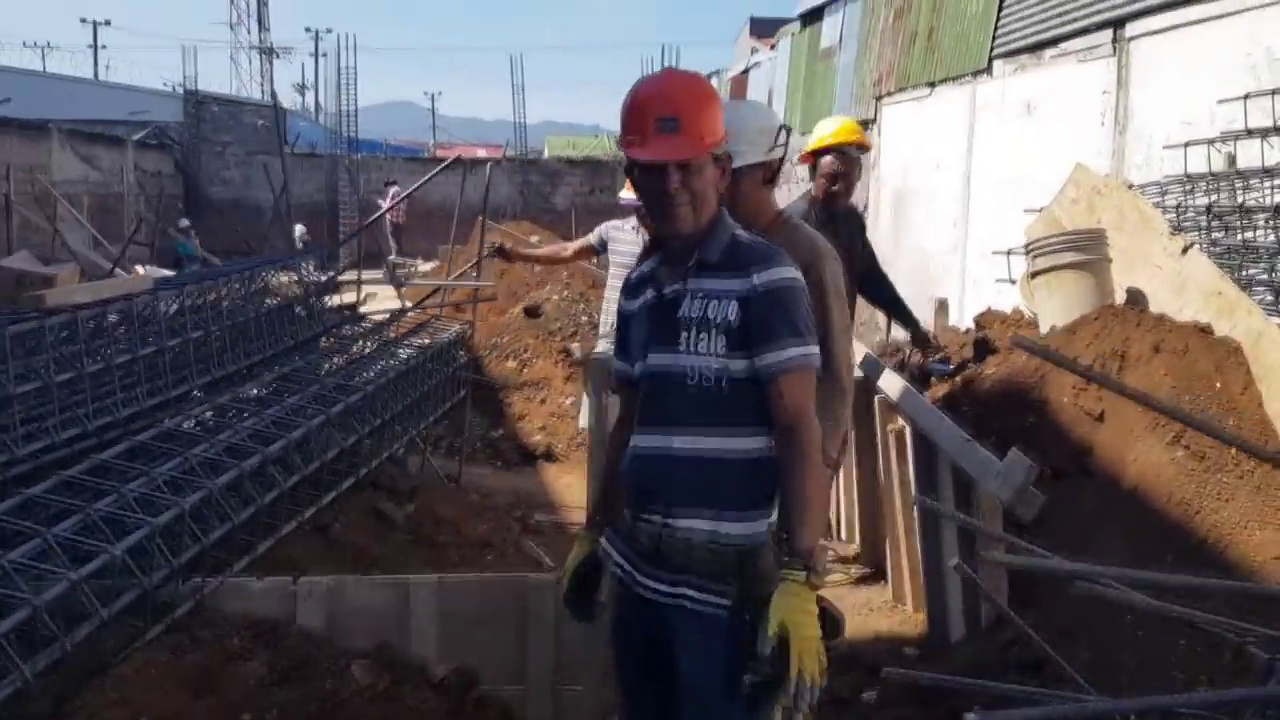helmet: (621, 65, 728, 170), (722, 102, 789, 177), (799, 116, 871, 162), (177, 217, 191, 230)
helmet-off: (383, 176, 397, 193)
helmet-on: (620, 67, 728, 251), (721, 99, 787, 235), (799, 115, 871, 214), (177, 216, 192, 236)
person: (560, 62, 834, 720), (722, 92, 855, 473), (491, 175, 650, 436), (785, 111, 936, 357), (377, 175, 408, 282), (172, 216, 199, 270)
